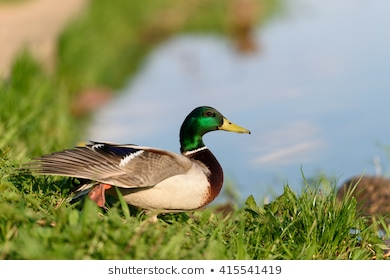duck: (20, 91, 259, 224)
